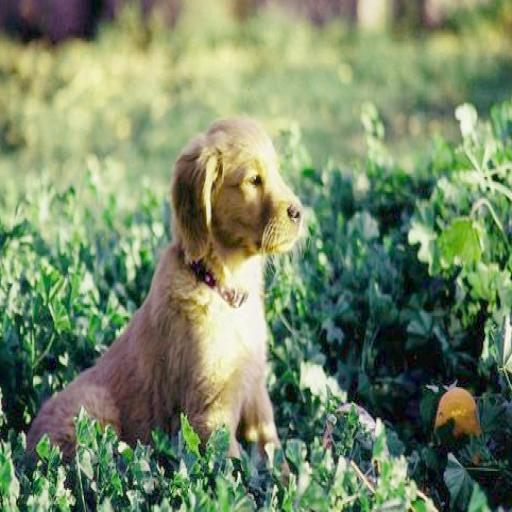dog_face: (176, 111, 300, 276)
